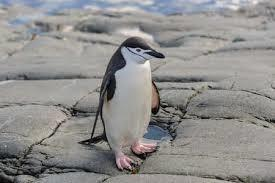chinstrap: (89, 32, 179, 175)
